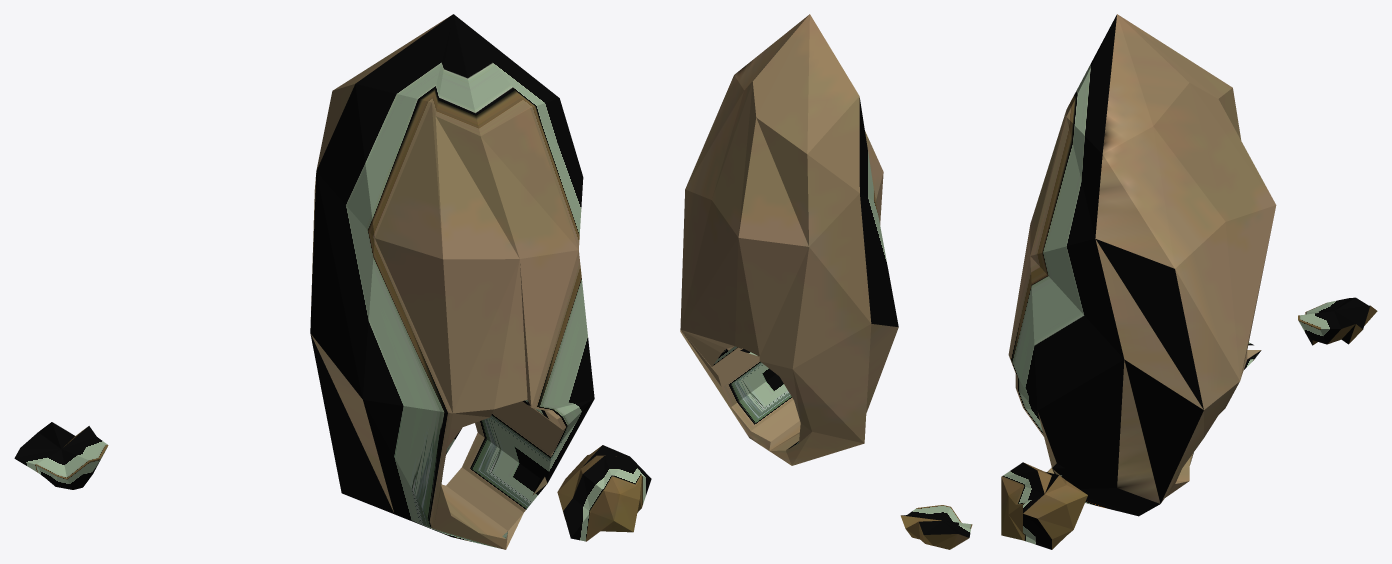
The model's file is Scenary.glb.
3 renders of one model, left to right at view 1: azimuth 30°, elevation 25°; view 2: azimuth 150°, elevation 25°; view 3: azimuth 270°, elevation 25°, orthographic. The views are drawn at different scales.
Visible parts, largest first — view 1: Scenary; view 2: Scenary; view 3: Scenary.
Part boxes in pixels (bbox=[...]): Scenary: bbox=[14, 14, 651, 549]; Scenary: bbox=[680, 14, 972, 549]; Scenary: bbox=[1001, 14, 1377, 549].
Size of the model in its own units: 151 by 167 by 114.
1 material, 1 textured.
